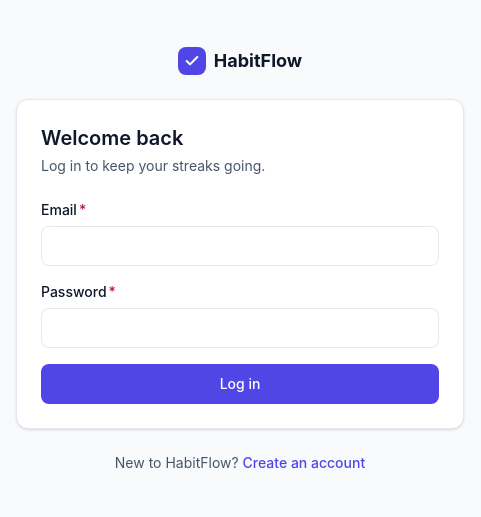
login form › shows the server error for wrong credentials, without blaming one field
Type "ana@example.com" into the field labelled "Email*" at (240, 246), box [41,226,439,266]
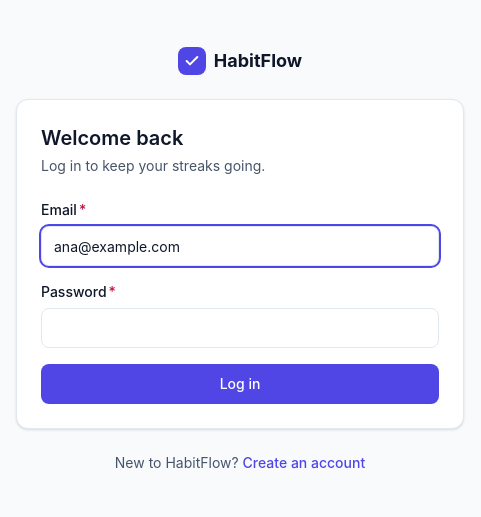
Type "wrong-pass-1" into the password field labelled "Password*" at (240, 328), box [41,308,439,348]
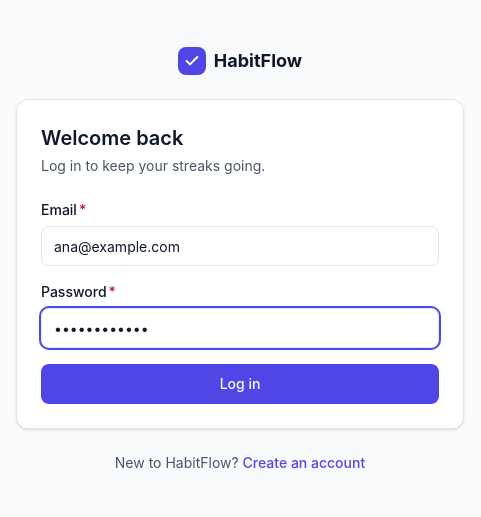
Click the button "Log in" at (240, 384), box [41,364,439,404]
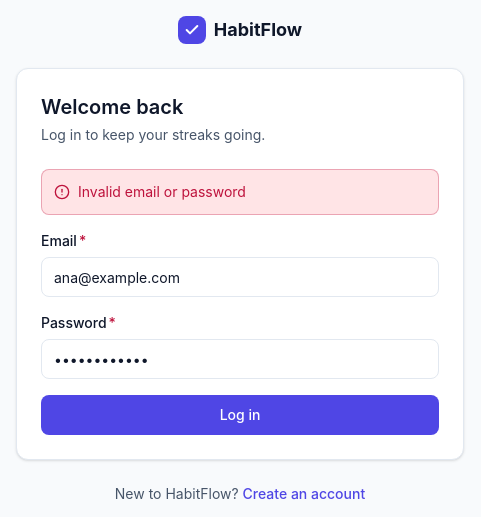
Now the text "Invalid email or password" is shown, box [41,169,439,215]
